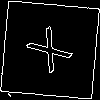X: (25, 25, 81, 82)
